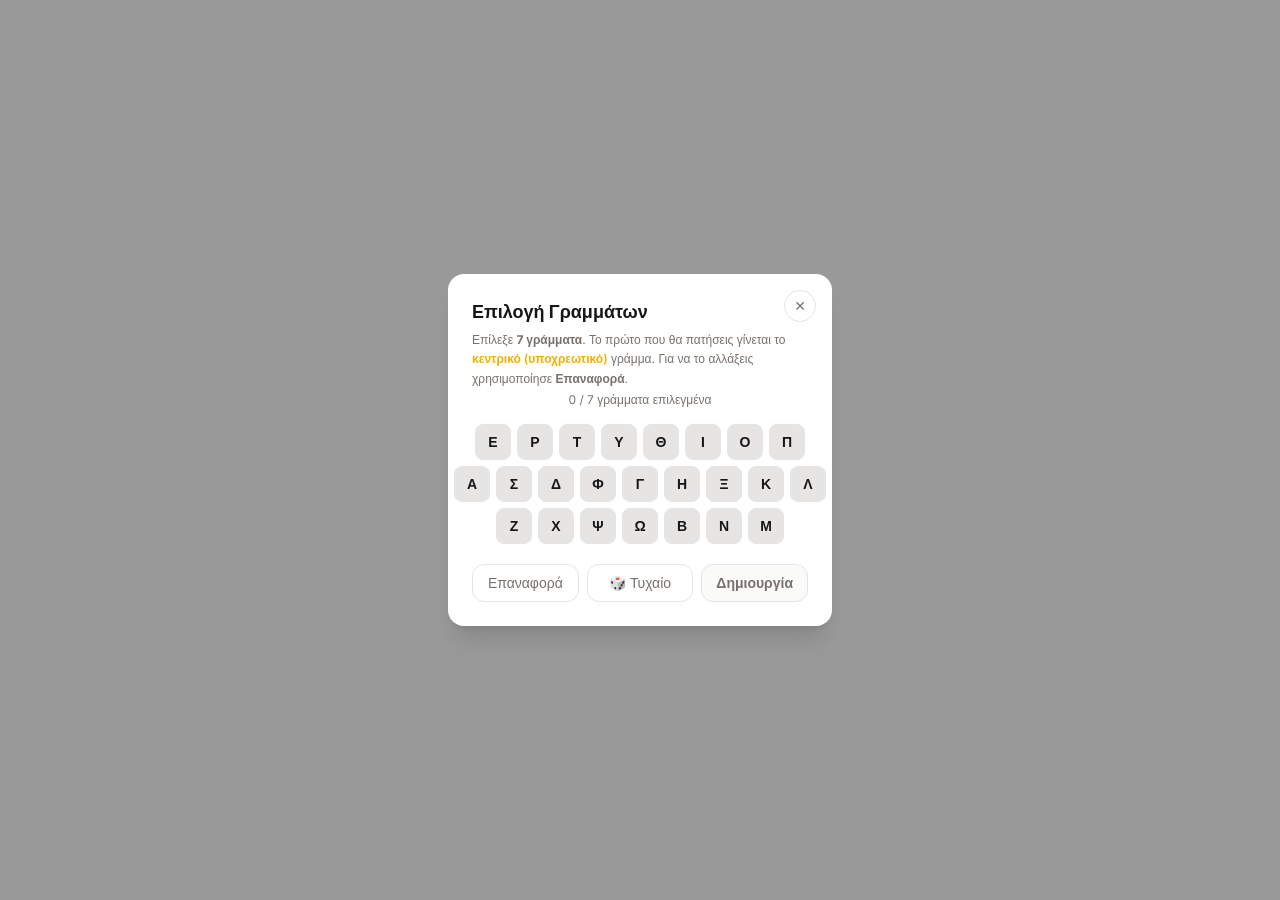
it: LetterPickerModal — Reset › Reset clears center and outer
This screenshot has width=1280, height=900.
Click the button "Α" at (472, 484), box x1=454 y1=466 x2=490 y2=502
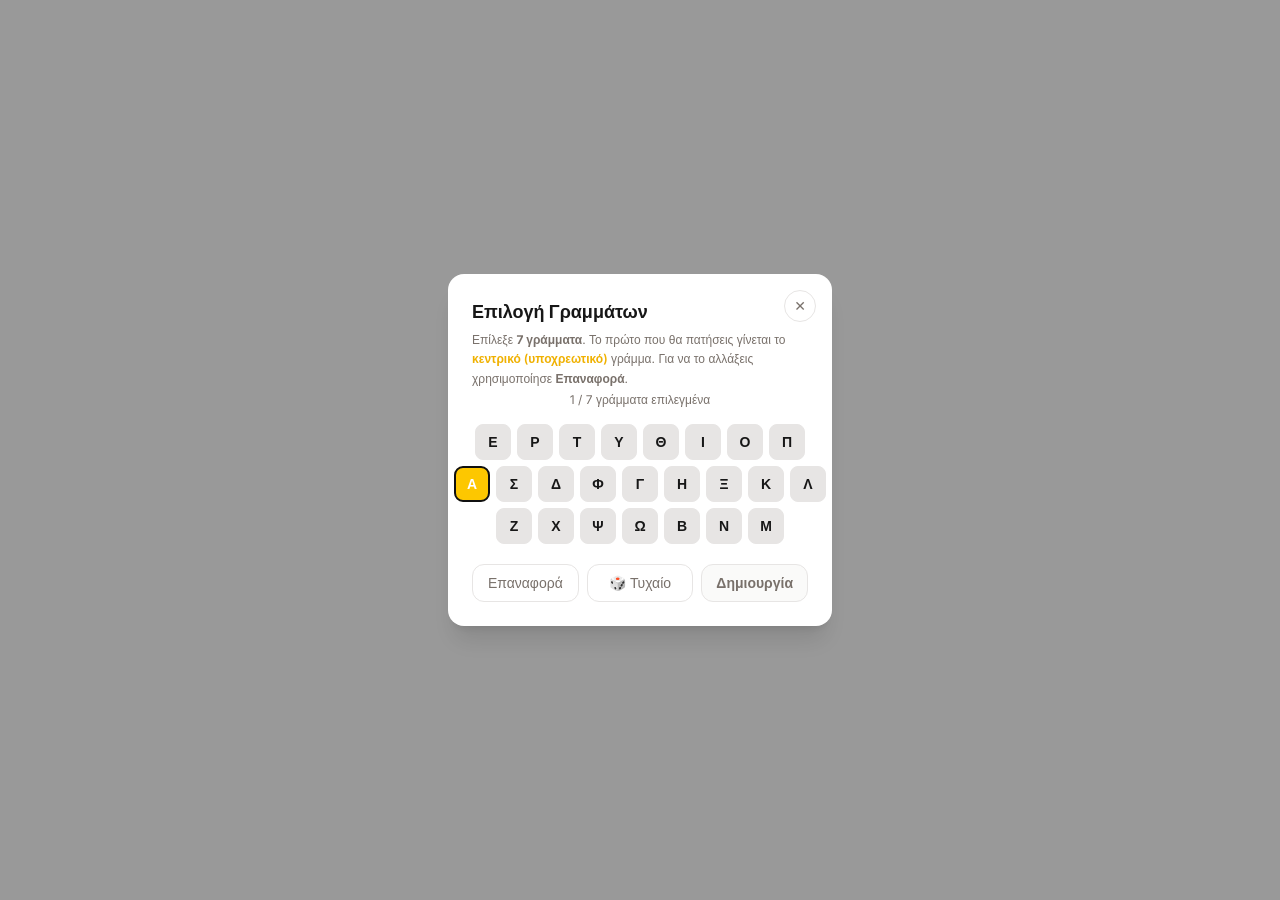
Click the button "Ε" at (493, 442), box x1=475 y1=424 x2=511 y2=460
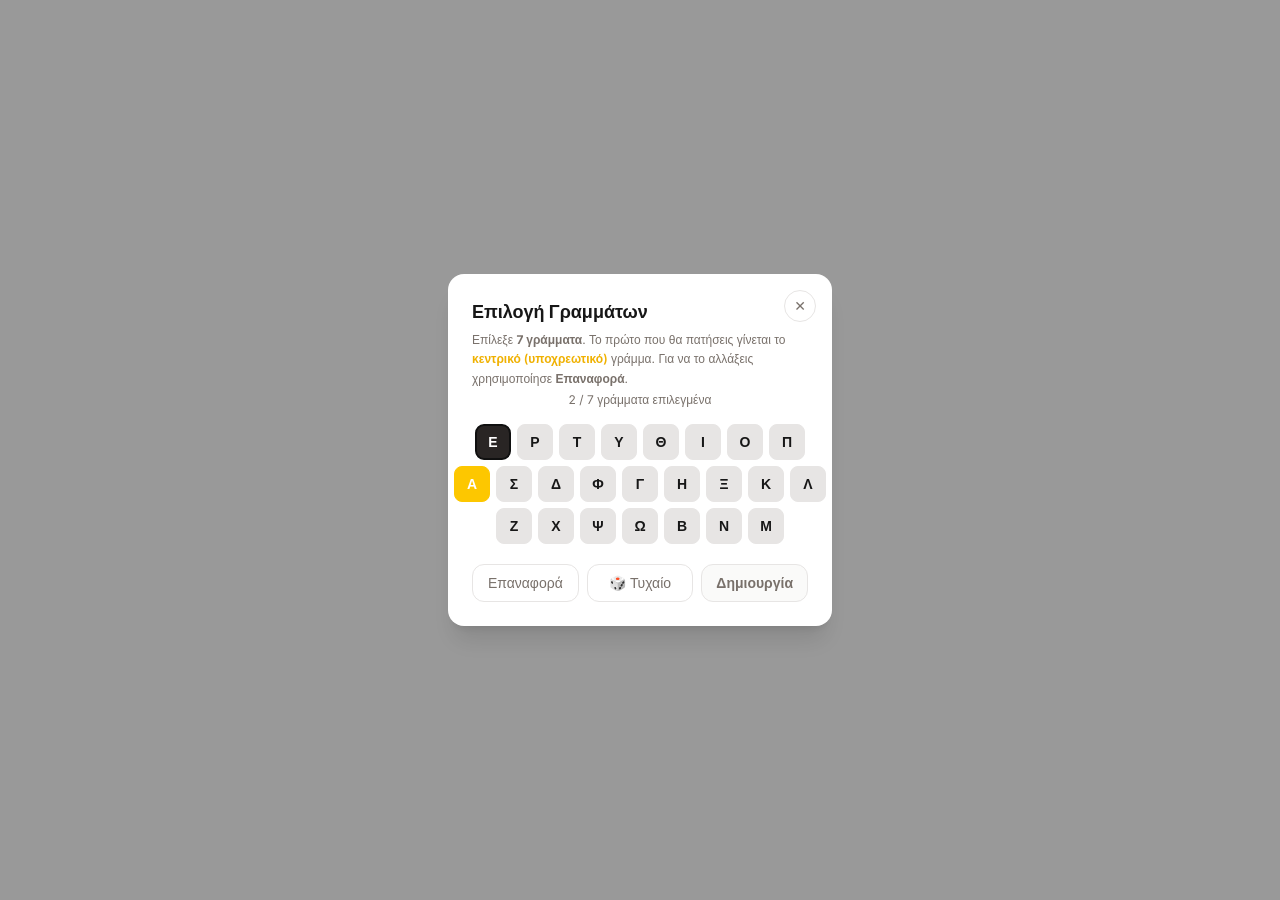
Click the button with test id "letter-picker-reset" at (525, 583), box x1=472 y1=564 x2=579 y2=602
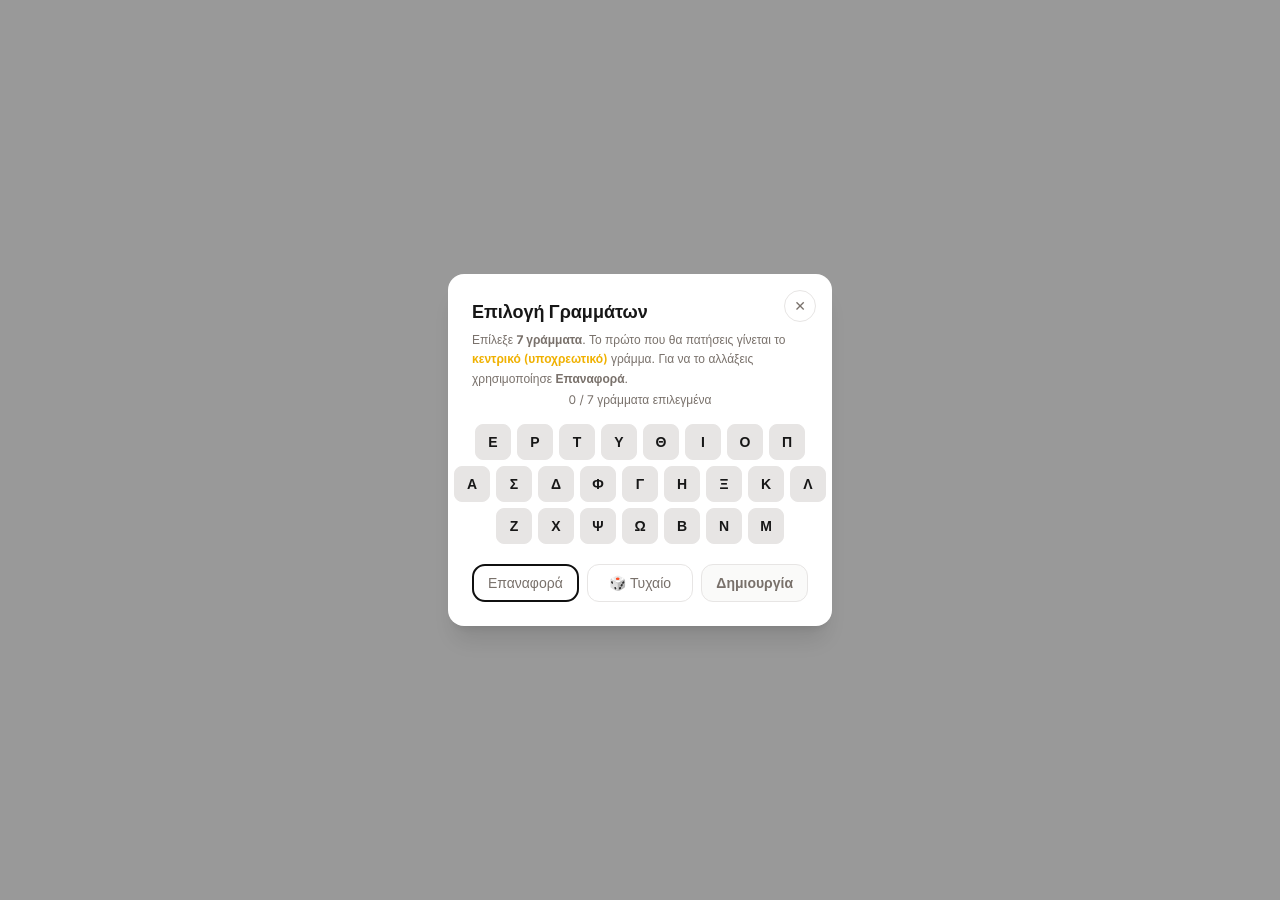
Result: the text with test id "letter-picker-count" shows "0 / 7" at x1=568 y1=392 x2=712 y2=407
